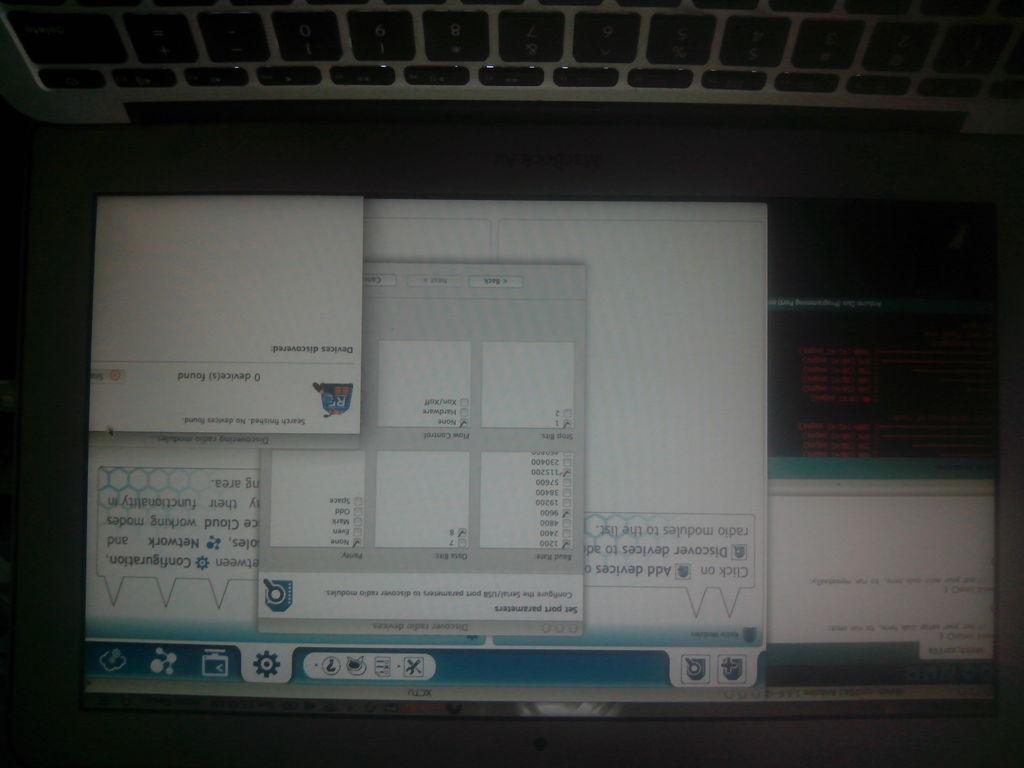Computer-monitor: (0, 111, 1023, 767)
